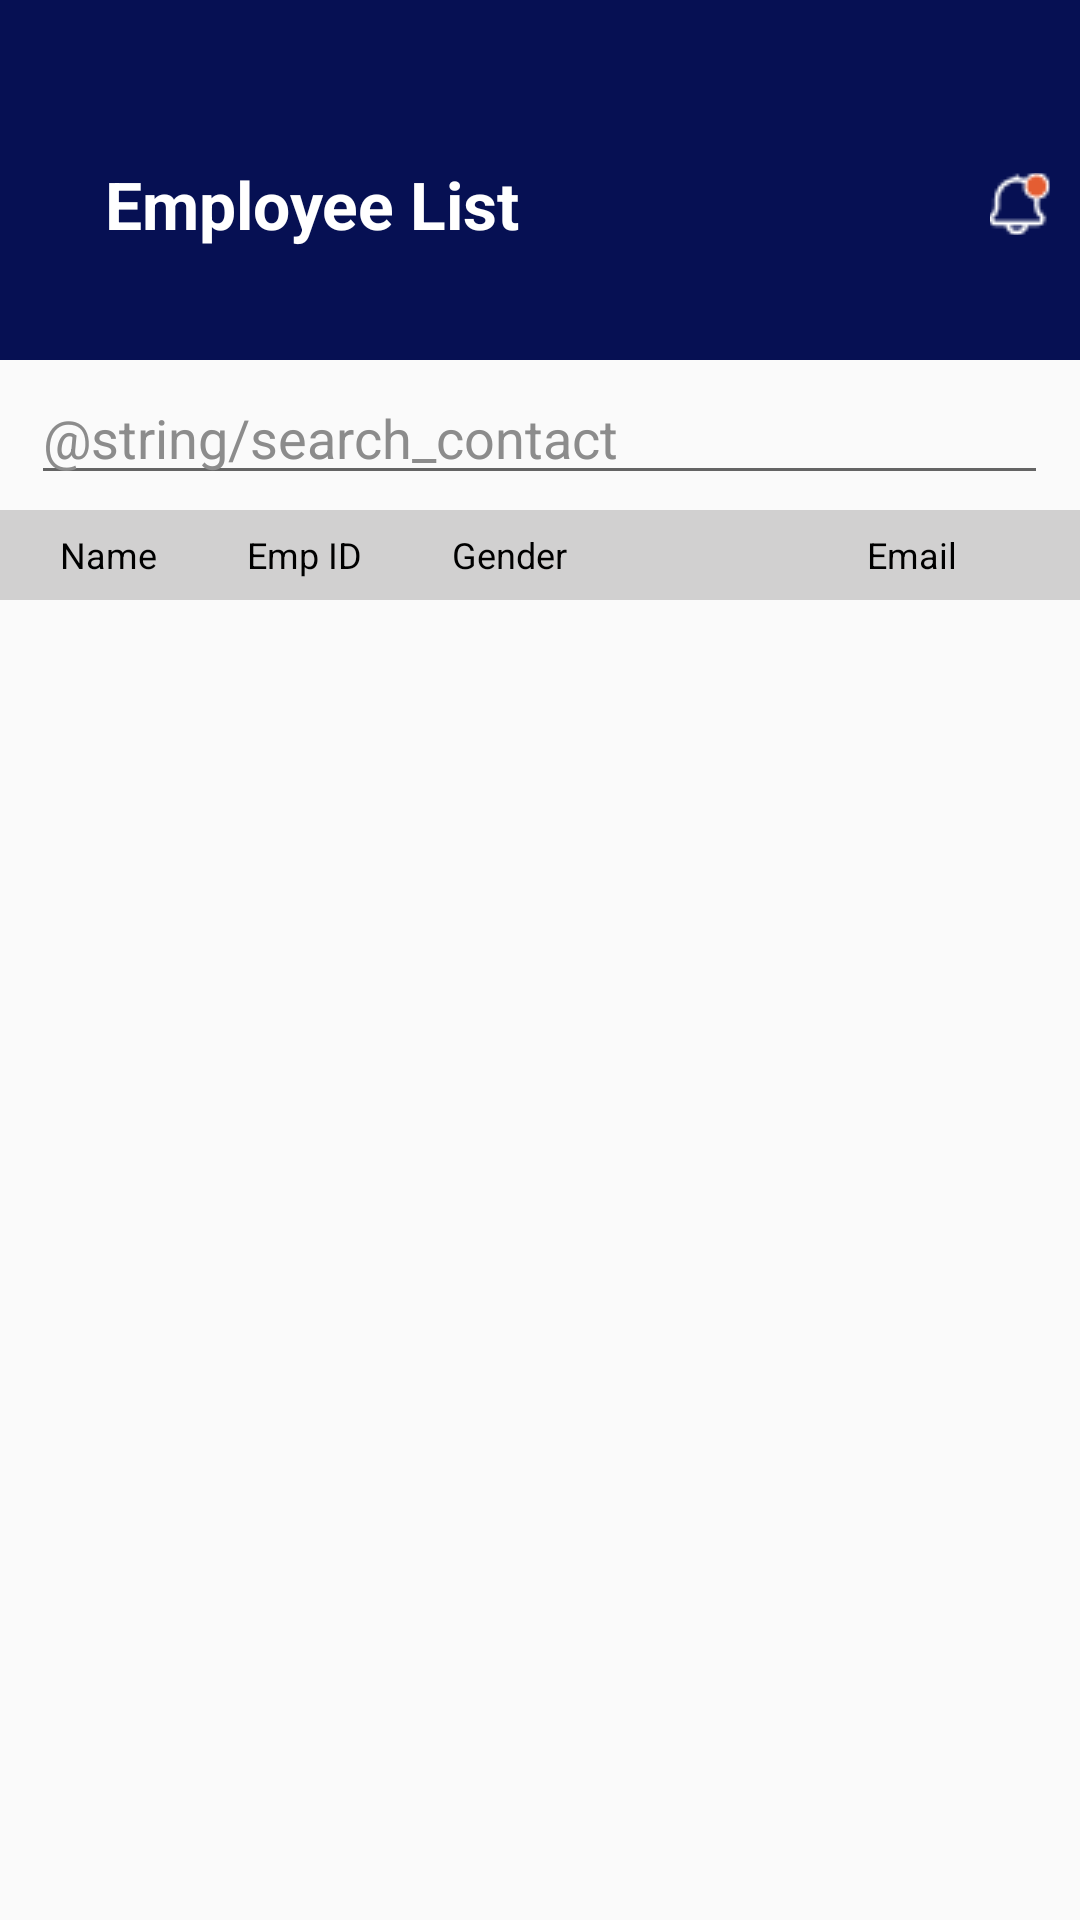

Icon bounding boxes for this 1080px×1920px phone screenshot, format [left=x1, top=y1, right=x2, bottom=y2]:
notifications: [left=990, top=173, right=1050, bottom=235]
